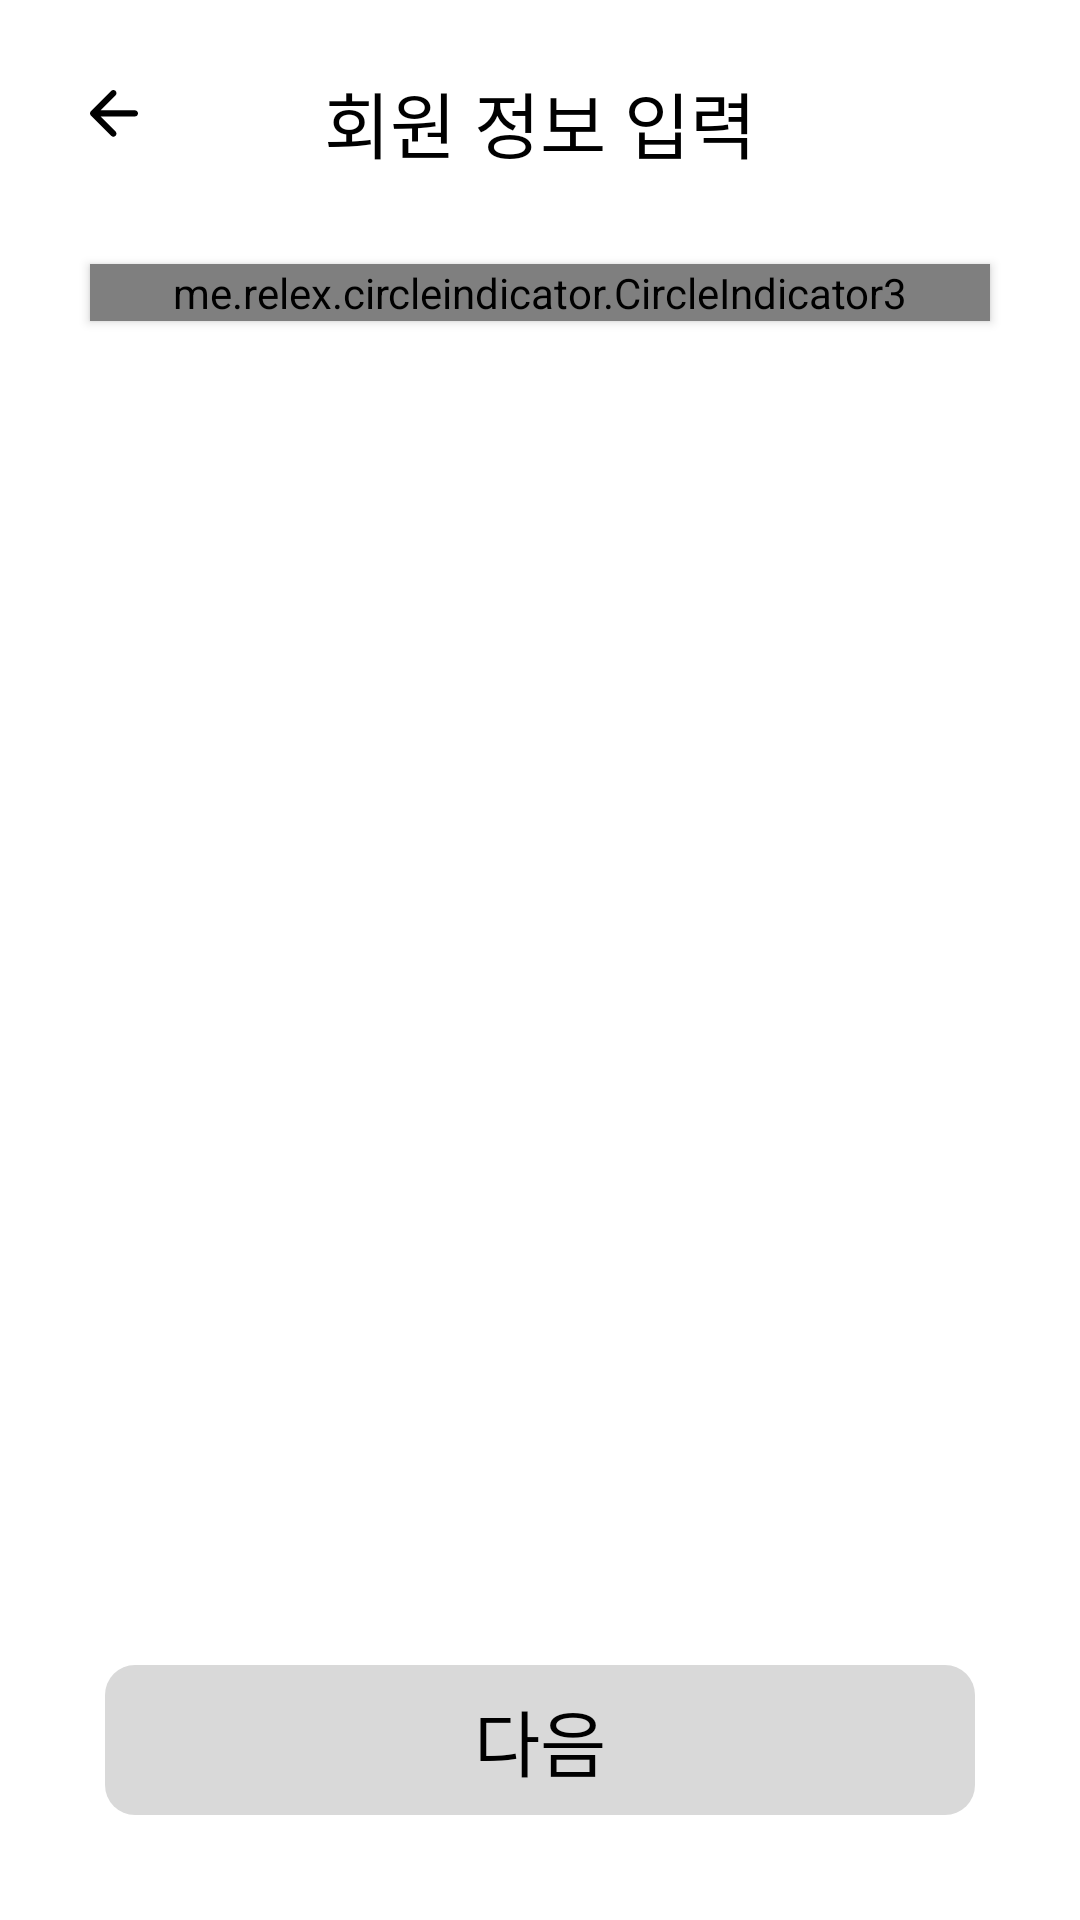

Named icons in this screenshot (1080 x 1920) and their bounding boxes, (x1, y1, x2, y2):
back arrow: (90, 90, 138, 137)
